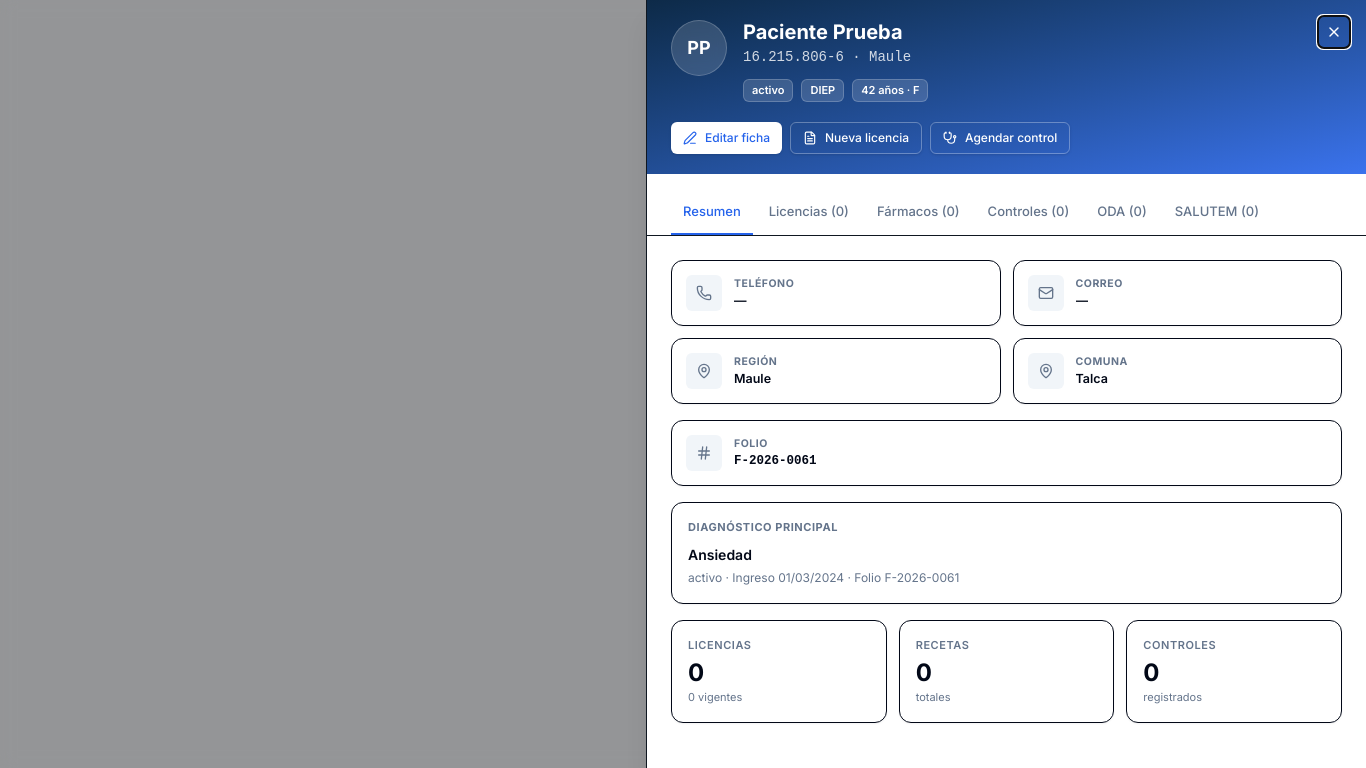
Test: PatientSheet — licencias detectadas en SALUTEM › lista las licencias detectadas con sus fechas, avisos y si ya están registradas
Expected: the heading "Paciente Prueba" is shown, [743,20,902,44]
Click the tab "SALUTEM (0)": [1217, 212] box [1163,190,1271,235]
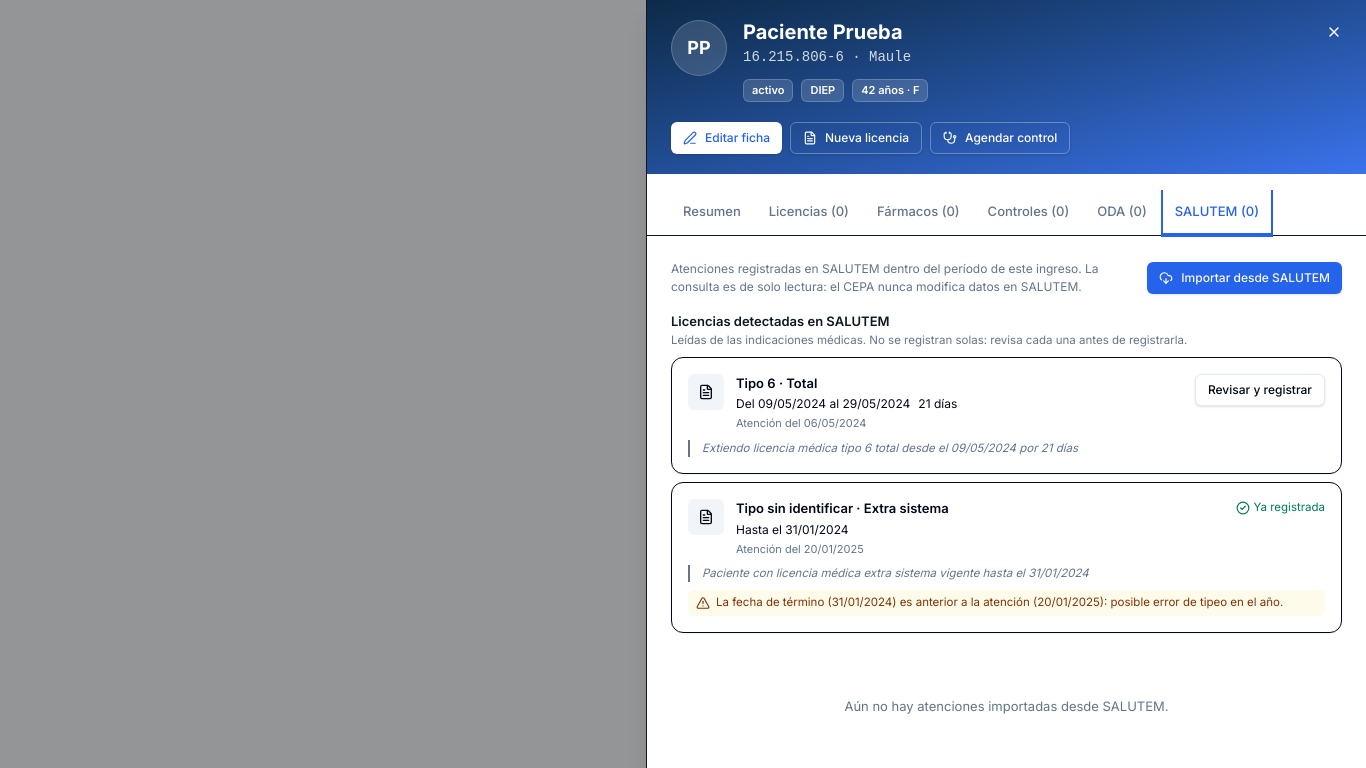
Now the number of list items is 2, box [671,357,1342,474]; [671,482,1342,632]
Now the text "Tipo 6 · Total" is shown, box [736,375,817,391]
Now the text "Del 09/05/2024 al 29/05/2024" is shown, box [736,395,910,413]
